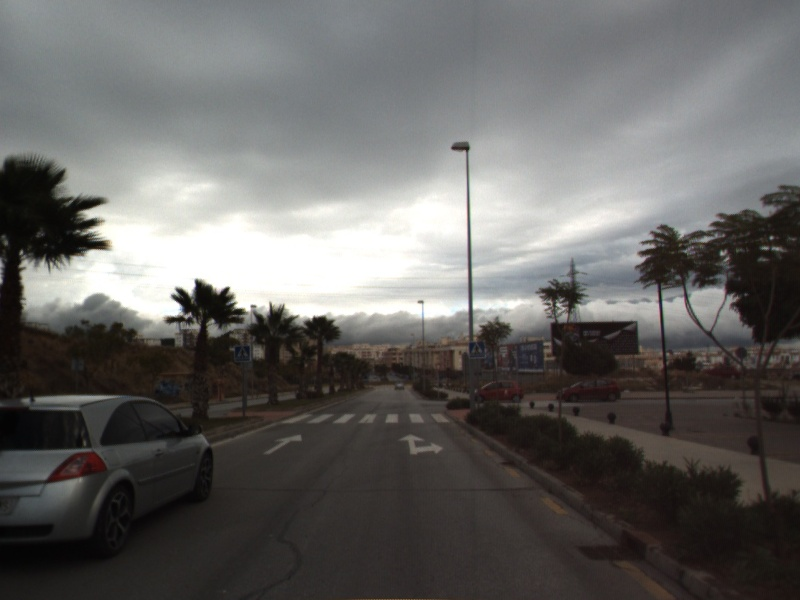STRAIGHT: (261, 432, 304, 456)
STRAIGHT_RIGHT: (395, 432, 445, 457)
